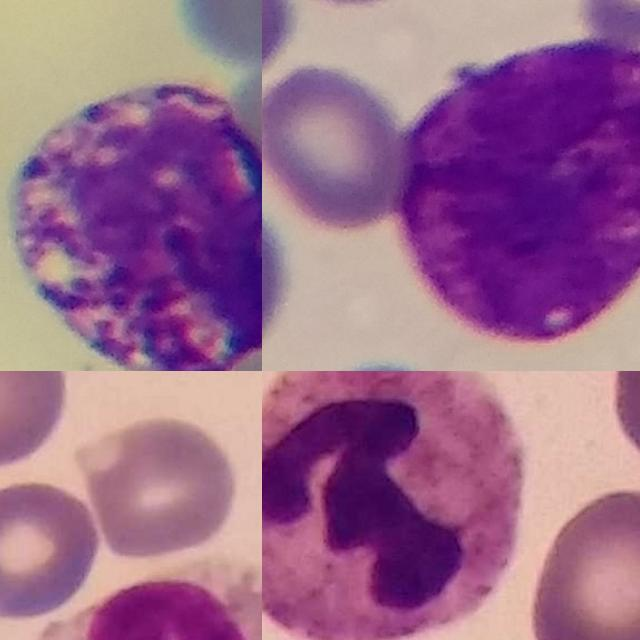Basophil: (395, 35, 640, 340), (8, 79, 262, 371)
Eosinophil: (32, 560, 262, 640)
Neutrophil: (262, 371, 522, 640)
